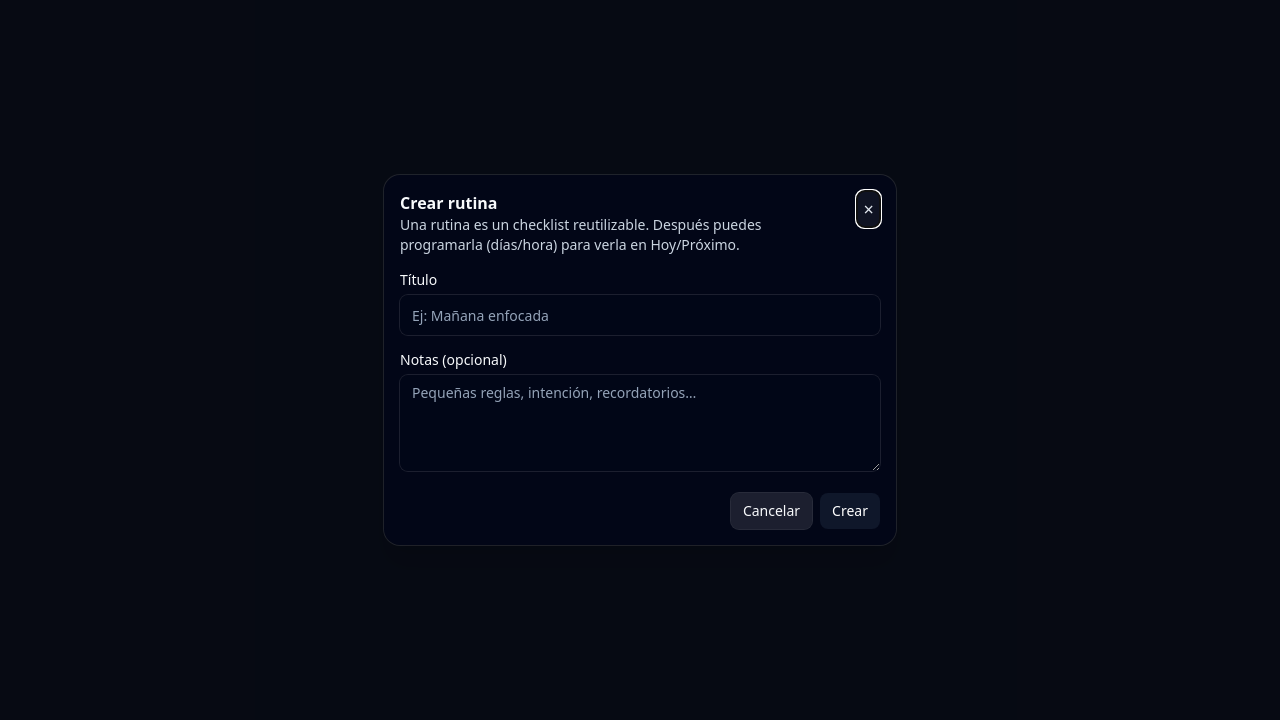
RoutineFormModal › requires a non-empty title
Click the button "Crear".
click(850, 511)  # box [820,493,880,529]
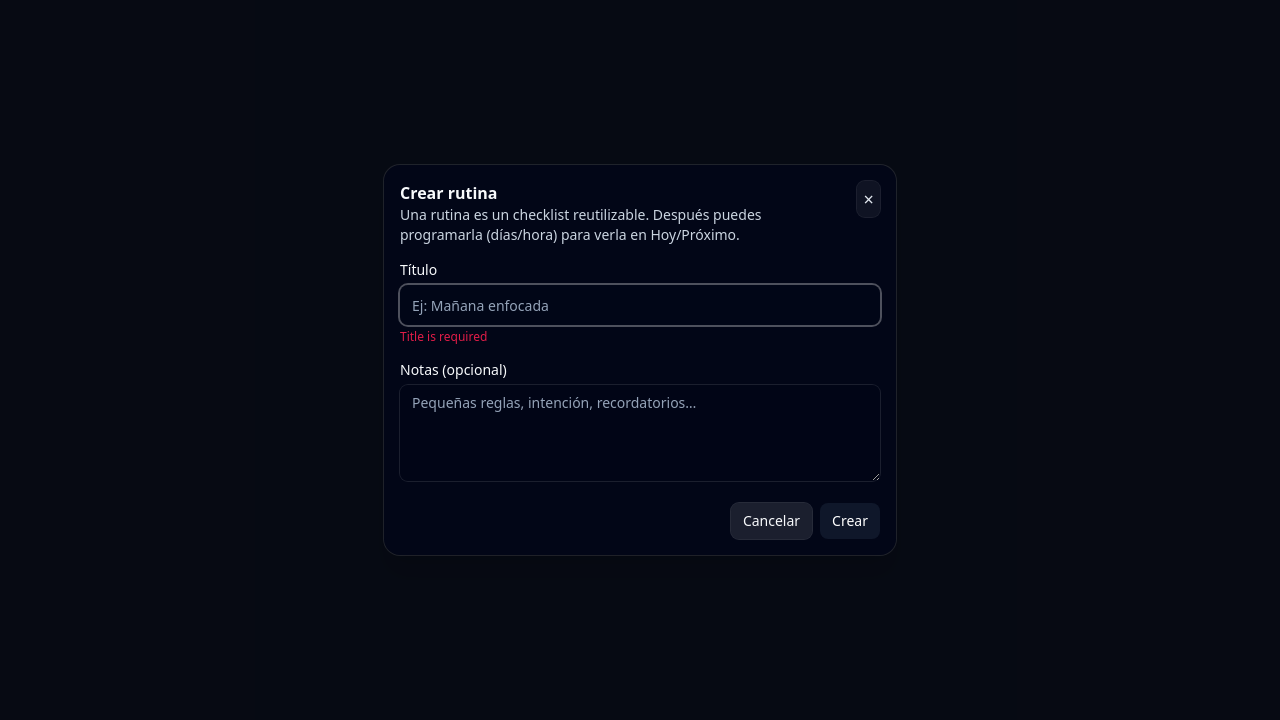
Expected: the text "Title is required" is shown, [400,328,487,345]
